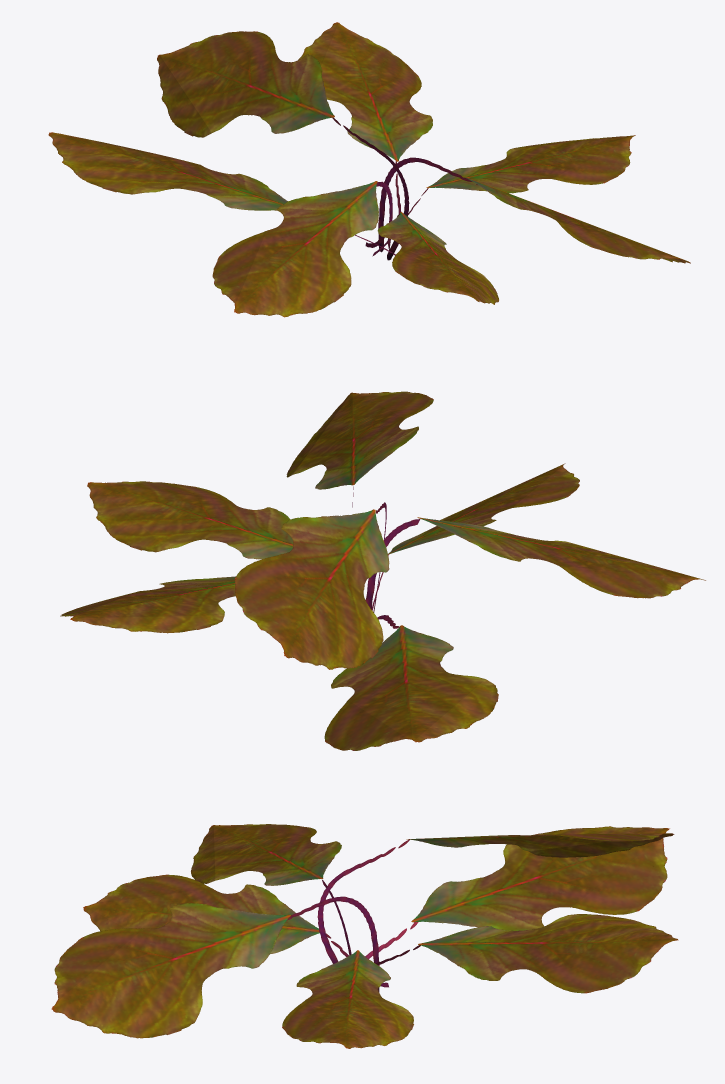
Rendered from Row Root B4.fbx.
3 renders of one model, top to bottom at view 1: azimuth 30°, elevation 25°; view 2: azimuth 150°, elevation 25°; view 3: azimuth 270°, elevation 25°, orthographic. The views are drawn at different scales.
Visible parts, largest first — view 1: Row Root B4; view 2: Row Root B4; view 3: Row Root B4.
Part boxes in pixels (<box>): Row Root B4: <box>48,22,690,317</box>; Row Root B4: <box>60,391,705,750</box>; Row Root B4: <box>51,824,678,1048</box>.
Bounding box in the file's own units: 179 × 59.65 × 207.
